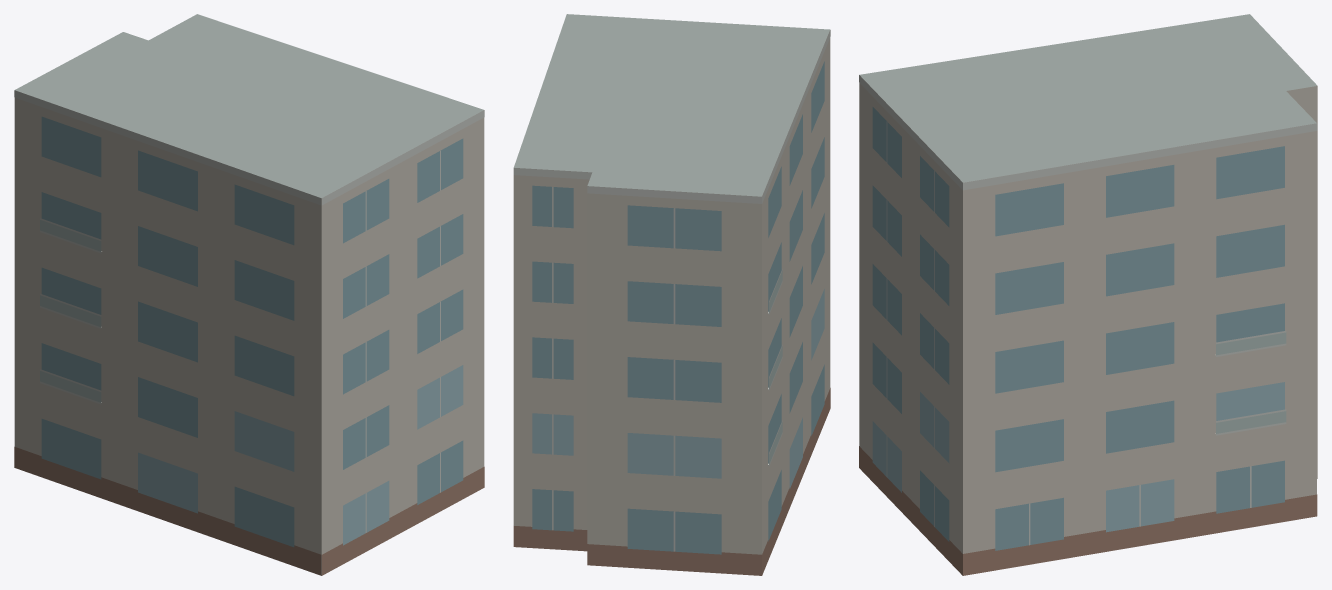
The model's file is survey-upis-32980366.glb.
The picture shows the model from 3 angles, left to right: view 1: azimuth 30°, elevation 25°; view 2: azimuth 150°, elevation 25°; view 3: azimuth 270°, elevation 25°; orthographic projection. The views are drawn at different scales.
Visible parts, largest first — view 1: survey-upis-32980366.tmp; view 2: survey-upis-32980366.tmp; view 3: survey-upis-32980366.tmp.
Part boxes in pixels (x1,y1,x2,y2): survey-upis-32980366.tmp: (14, 14, 484, 575); survey-upis-32980366.tmp: (513, 14, 830, 575); survey-upis-32980366.tmp: (859, 14, 1317, 575).
Size of the model in its own units: 11.61 by 12.6 by 13.33.
